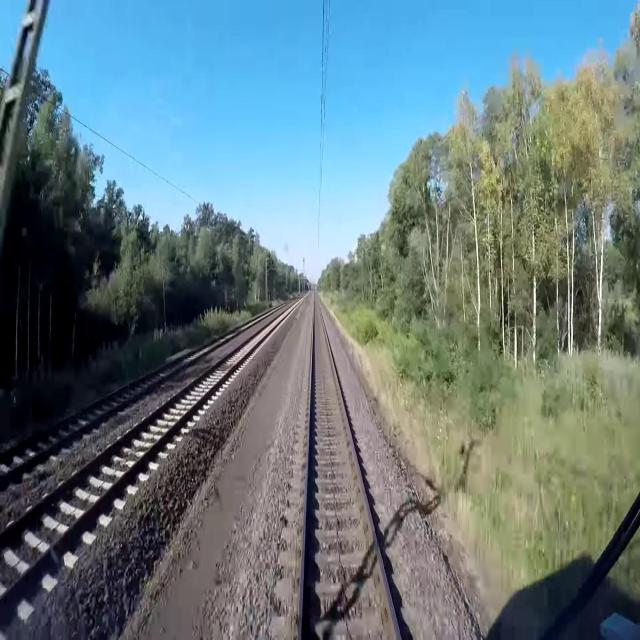rail-track: (0, 311, 287, 592), (302, 295, 396, 639), (0, 338, 224, 472)
